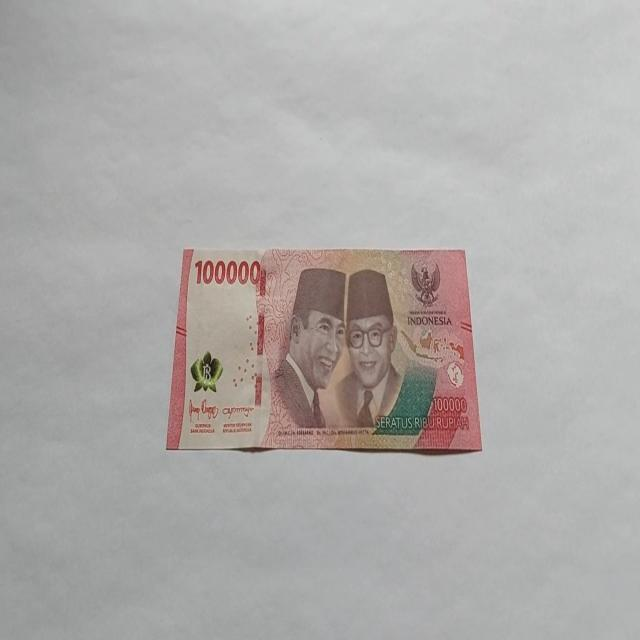seratus ribu rupiah: (165, 246, 482, 454)
